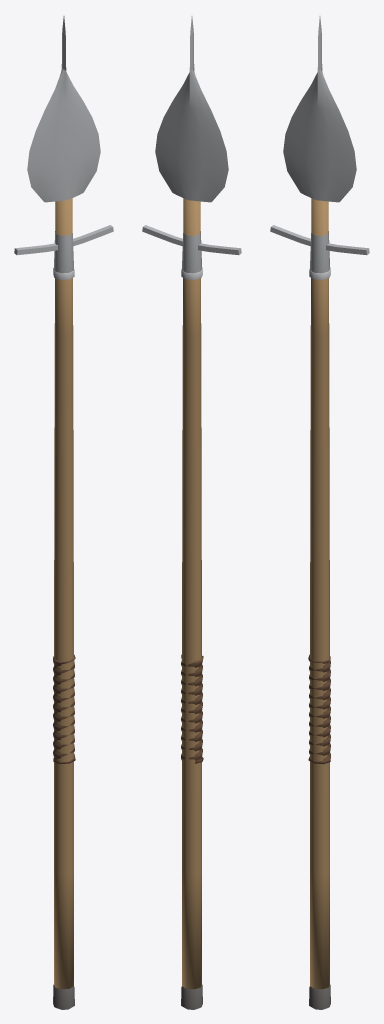
Rendered from boar-spear.glb.
3 renders of one model, left to right at view 1: azimuth 30°, elevation 25°; view 2: azimuth 150°, elevation 25°; view 3: azimuth 330°, elevation 25°, orthographic.
Visible parts, largest first — view 1: boar-spear; view 2: boar-spear; view 3: boar-spear.
Boxes of the visible parts, <box> form: boar-spear: <box>14,16,113,1009</box>; boar-spear: <box>142,16,241,1009</box>; boar-spear: <box>270,16,369,1009</box>.
Bounding box in the file's own units: 0.4963 × 4.86 × 0.1012.
